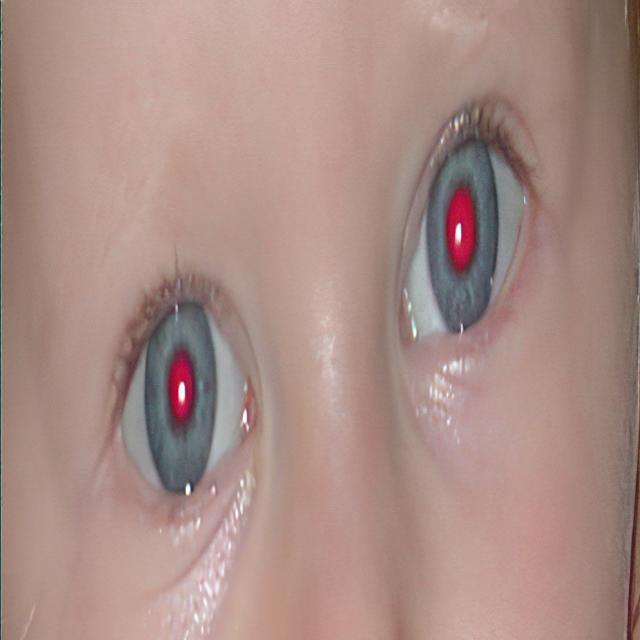reflexo-normal: (380, 122, 534, 361), (115, 272, 252, 522)
